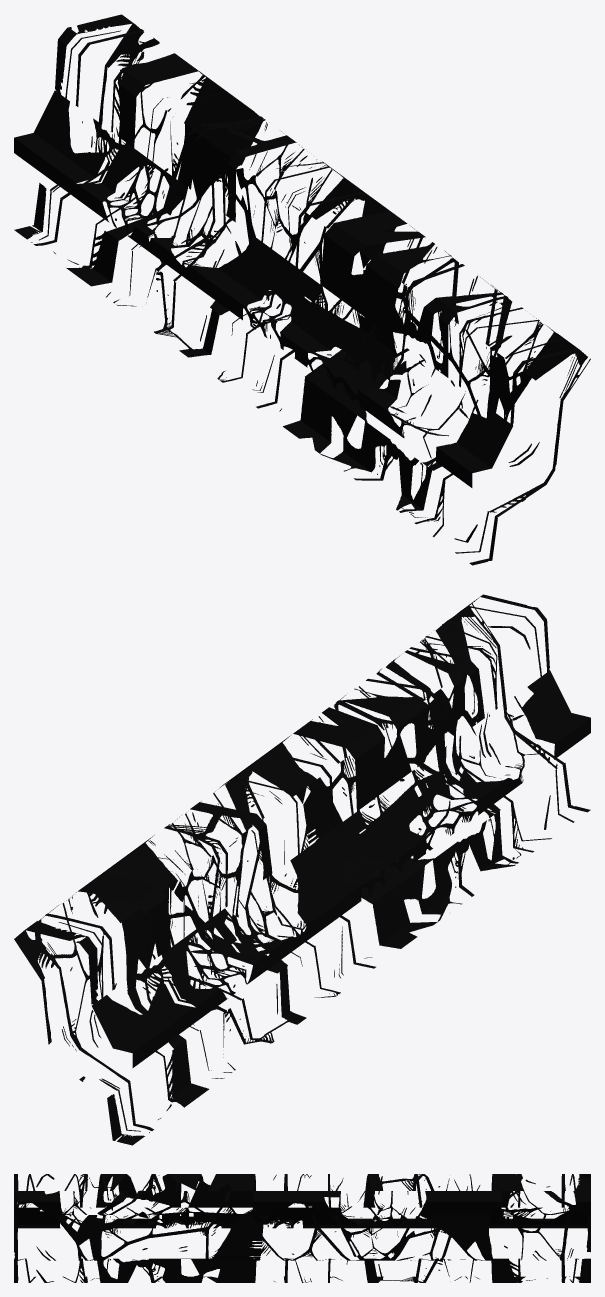
Rendered from Model_Environment_RooftopSide.fbx.
3 renders of one model, top to bottom at view 1: azimuth 30°, elevation 25°; view 2: azimuth 150°, elevation 25°; view 3: azimuth 270°, elevation 25°, orthographic. The views are drawn at different scales.
Visible parts, largest first — view 1: RooftopSide_low; view 2: RooftopSide_low; view 3: RooftopSide_low.
Part boxes in pixels (left/top/right/bottom): RooftopSide_low: left=14, top=14, right=590, bottom=565; RooftopSide_low: left=14, top=594, right=590, bottom=1145; RooftopSide_low: left=14, top=1174, right=590, bottom=1282.
Bounding box in the file's own units: 0.4478 × 0.683 × 3.
